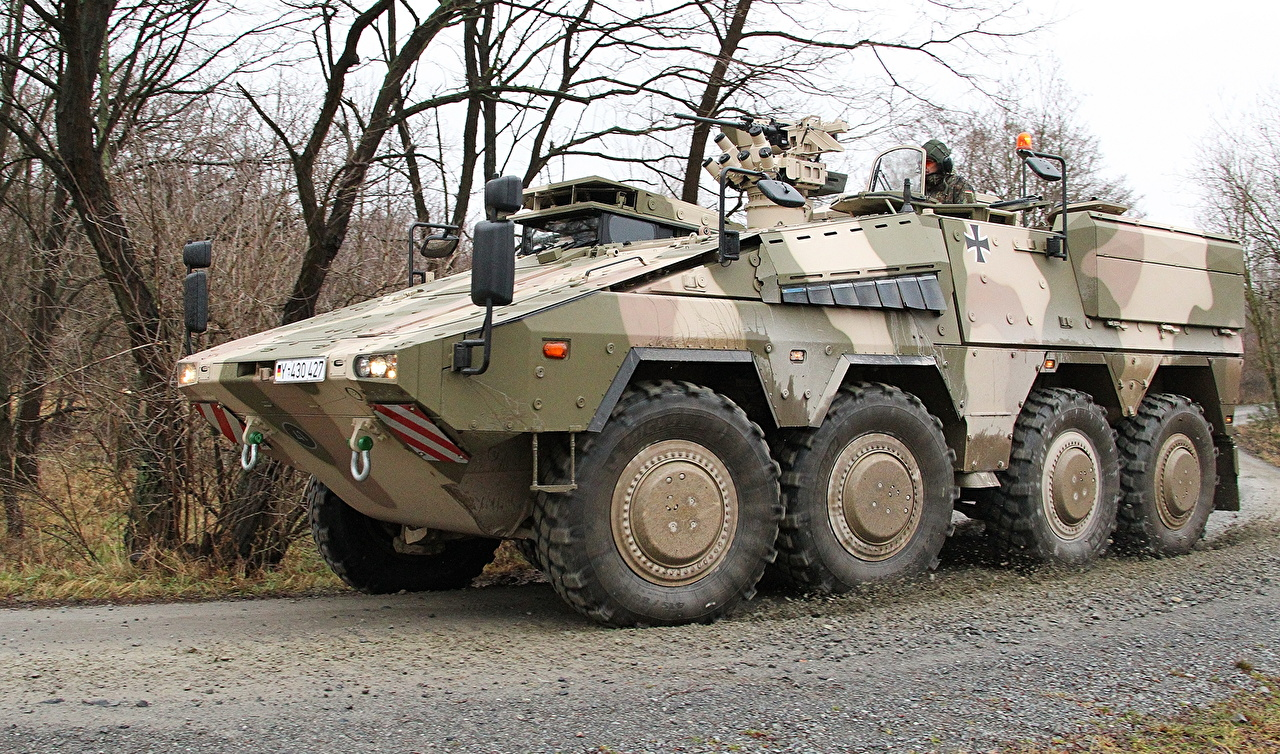btr: (193, 142, 1248, 620)
pilot: (872, 131, 994, 234)
